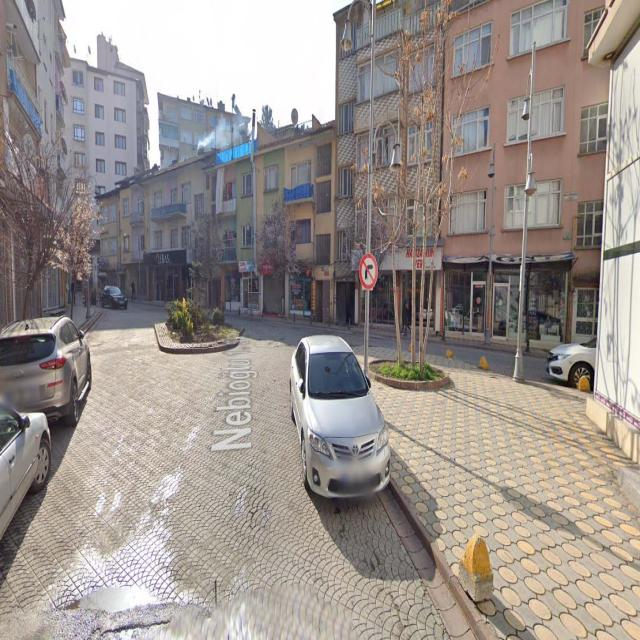sagadonulmez: (359, 252, 377, 293)
